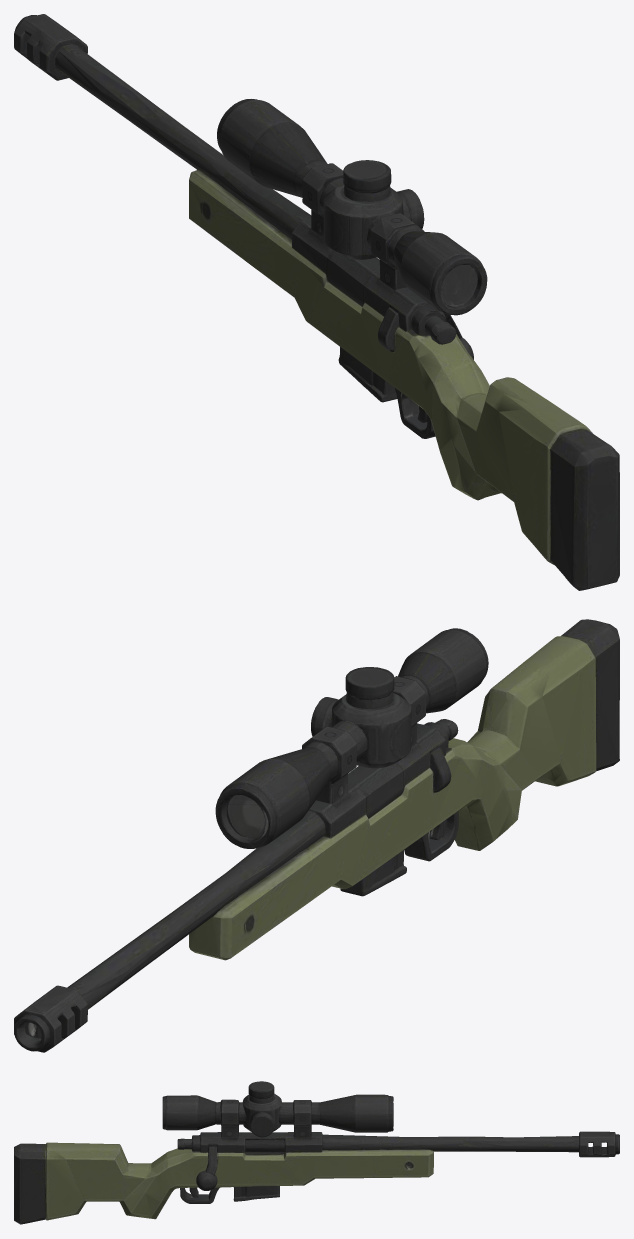
The model's file is scharf.glb.
The picture shows the model from 3 angles, top to bottom: view 1: azimuth 30°, elevation 25°; view 2: azimuth 150°, elevation 25°; view 3: azimuth 270°, elevation 25°; orthographic projection. The views are drawn at different scales.
Parts seen in each view (by area): view 1: waffe_scharf; view 2: waffe_scharf; view 3: waffe_scharf.
Part boxes in pixels (x1,y1,x2,y2): waffe_scharf: (14, 14, 619, 590); waffe_scharf: (14, 619, 619, 1052); waffe_scharf: (14, 1081, 619, 1224).
Bounding box in the file's own units: 0.0989 × 0.272 × 1.12.
1 material, 1 textured.
